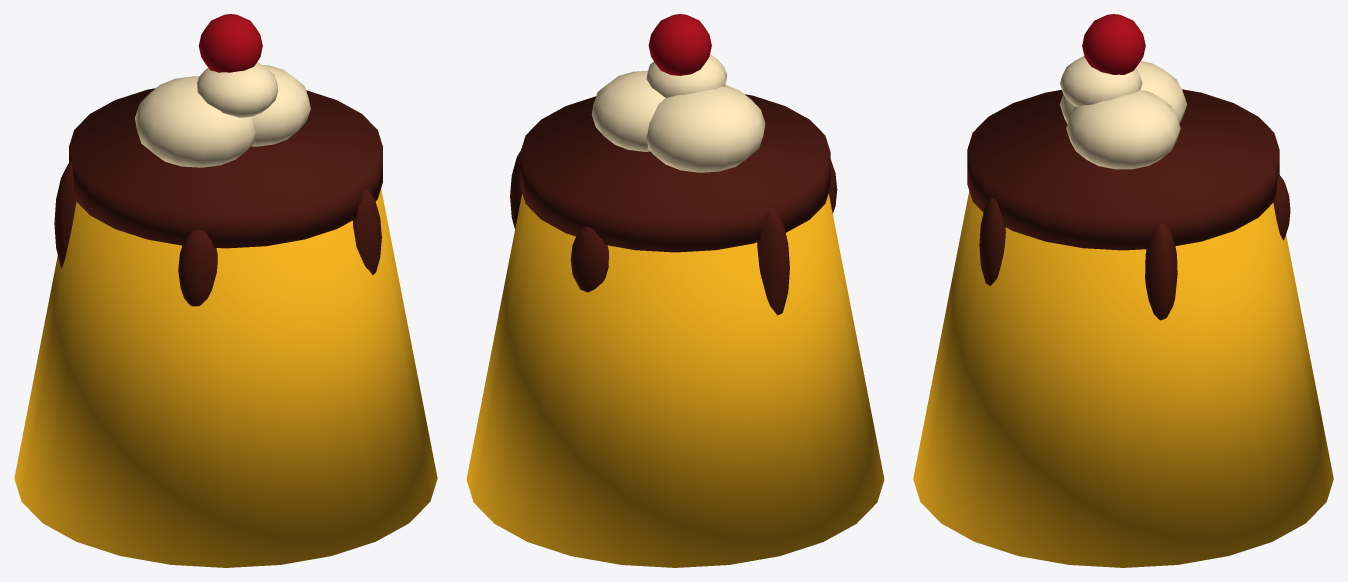
Rendered from pudding.glb.
3 views of the same model, side by side, from view 1: azimuth 30°, elevation 25°; view 2: azimuth 150°, elevation 25°; view 3: azimuth 270°, elevation 25° (orthographic).
Visible parts, largest first — view 1: pudding; view 2: pudding; view 3: pudding.
Boxes of the visible parts, x1,y1,x2,y2 form: pudding: (14, 14, 437, 567); pudding: (466, 14, 884, 567); pudding: (913, 14, 1333, 567).
Bounding box in the file's own units: 0.825 × 1 × 0.825.
Materials: 1 (1 with a texture image).
